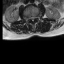CCS_normal: (32, 14, 33, 23)
LFS_stenosis: (35, 14, 37, 20)
LLS_stenosis: (33, 14, 35, 20)
RFS_stenosis: (28, 15, 30, 21)
RLS_stenosis: (30, 14, 32, 21)
